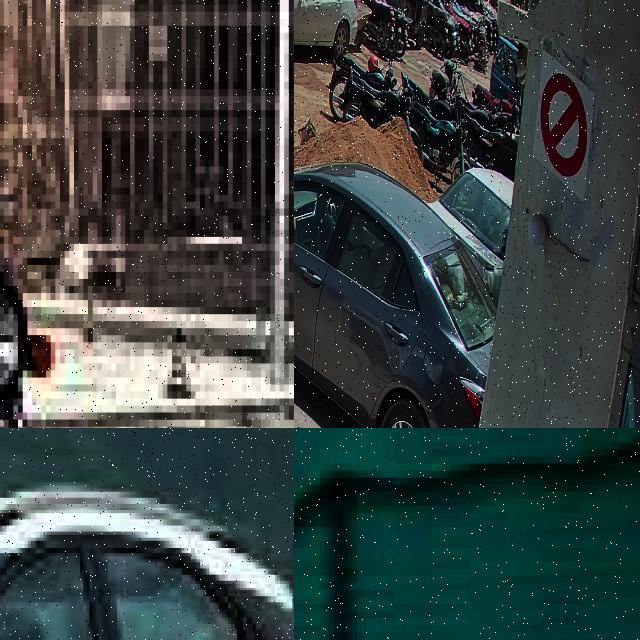bike: (0, 187, 200, 428), (327, 49, 393, 123), (338, 65, 412, 129), (411, 94, 468, 174), (406, 73, 461, 123), (472, 83, 519, 135), (464, 113, 506, 168), (358, 0, 395, 54), (463, 92, 496, 132), (426, 0, 449, 52), (429, 59, 458, 100)
car: (294, 163, 495, 428), (0, 461, 294, 640), (436, 168, 511, 277), (294, 0, 358, 63)
